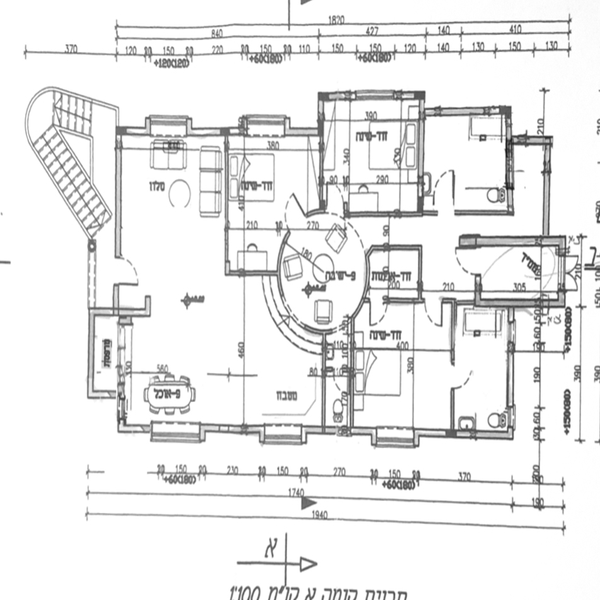door: (280, 182, 311, 233), (111, 249, 146, 290), (455, 244, 490, 274), (368, 292, 388, 324), (426, 300, 447, 327)
wall: (460, 230, 570, 249), (500, 102, 517, 216), (114, 123, 127, 259), (474, 293, 565, 310), (348, 206, 439, 221), (544, 138, 556, 235), (419, 106, 513, 118), (422, 428, 513, 440), (191, 419, 259, 434), (87, 303, 147, 318), (85, 310, 95, 400), (514, 130, 558, 146), (451, 206, 517, 216)
window: (258, 415, 303, 444), (155, 419, 207, 444), (243, 114, 290, 136), (151, 109, 186, 136), (375, 425, 418, 444)
